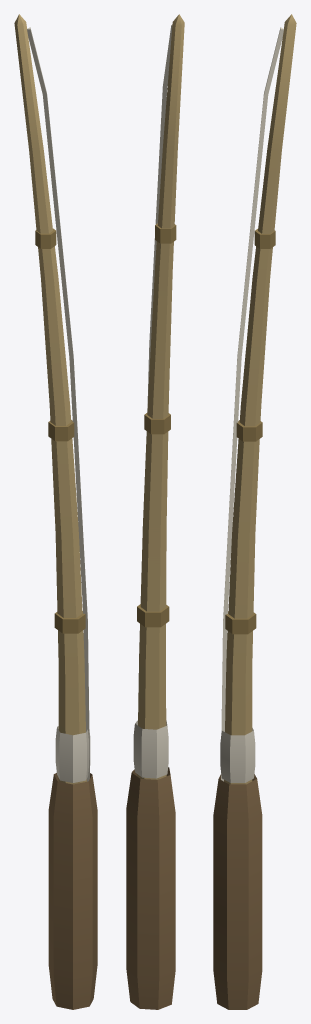
The model's file is rod-1.glb.
The picture shows the model from 3 angles, left to right: view 1: azimuth 90°, elevation 25°; view 2: azimuth 210°, elevation 25°; view 3: azimuth 270°, elevation 25°; orthographic projection. The views are drawn at different scales.
Parts seen in each view (by area): view 1: rod-1; view 2: rod-1; view 3: rod-1.
Boxes of the visible parts, left/top/right/bottom form: rod-1: left=14, top=14, right=97, bottom=1009; rod-1: left=126, top=14, right=184, bottom=1009; rod-1: left=213, top=14, right=296, bottom=1009.
Bounding box in the file's own units: 0.0361 × 0.8272 × 0.063.
